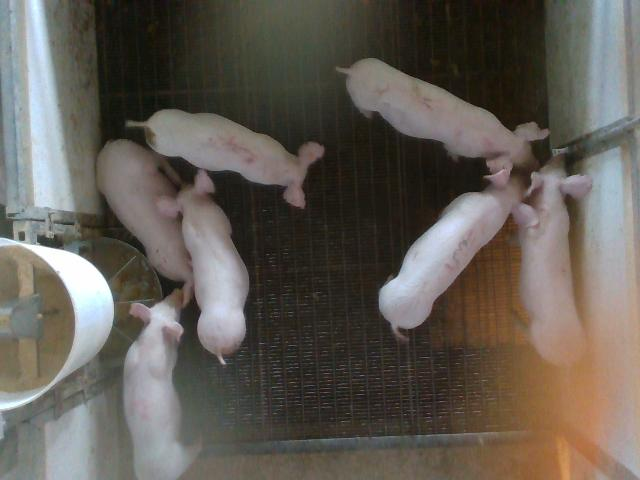pig-3: (380, 170, 538, 338)
pig-4: (124, 289, 201, 478)
pig-5: (126, 109, 325, 208)
